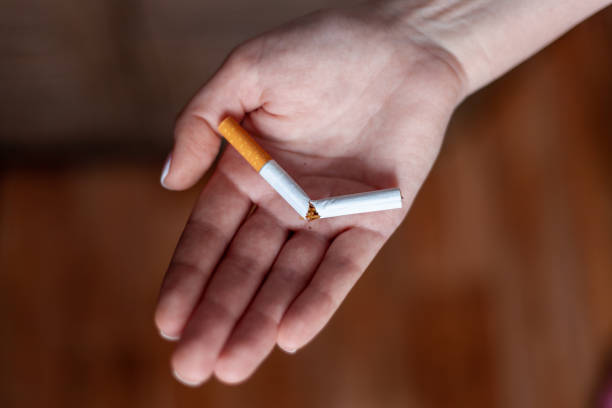cigarette: (213, 109, 318, 220), (309, 186, 403, 218)
